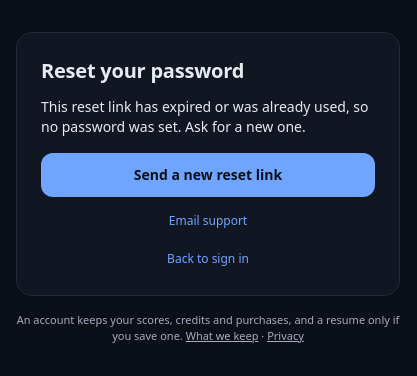
Test: 2. a reset link from the default sender that failed, or could not be checked › a stashed #error (expired, or spent by a mail scanner) says so, and 'Send a new reset link' goes back to the request with the address filled in
expect the message shows "This reset link has expired or was already used, so no password was set. Ask for a new one.": met, box [41, 96, 368, 136]
Click the button "Send a new reset link".
click(208, 174)  # box [41, 152, 375, 196]
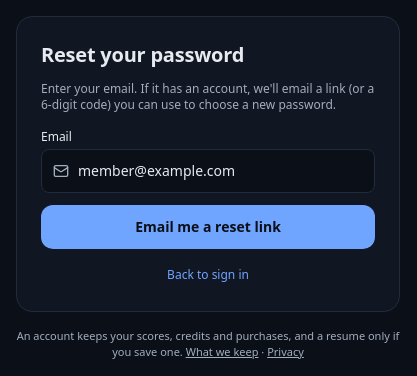
expect the field labelled "Email" holds "member@example.com": met, box [41, 148, 375, 192]
expect the message is gone: met
